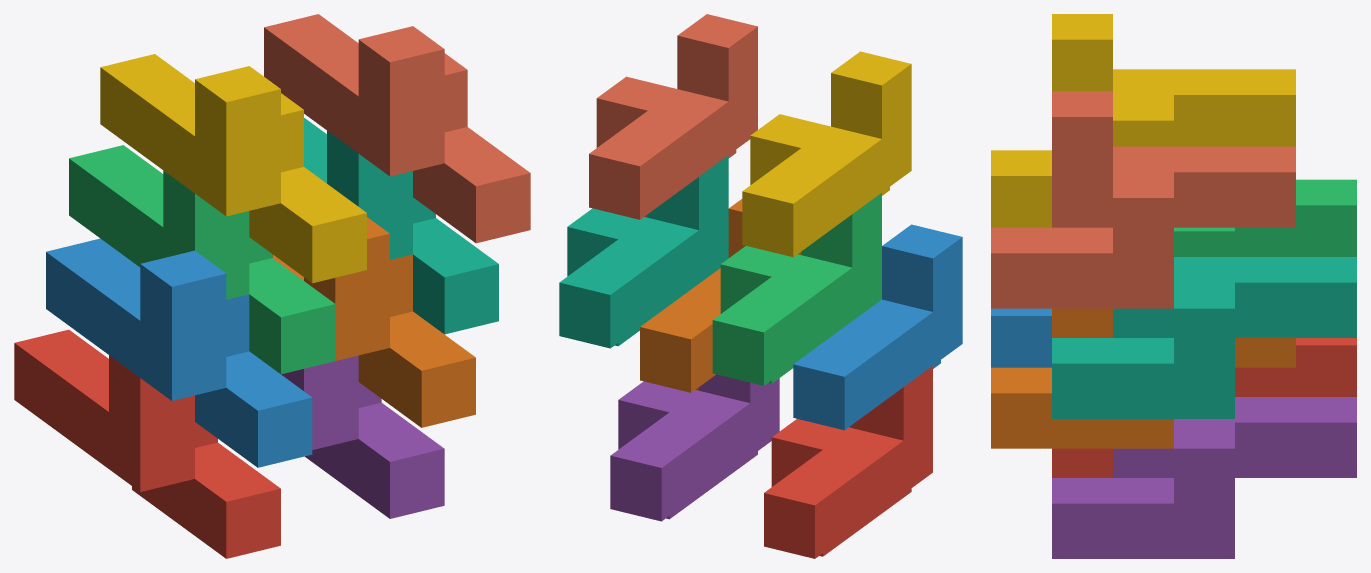
The model's file is tiling.obj.
3 views of the same model, side by side, from view 1: azimuth 30°, elevation 25°; view 2: azimuth 150°, elevation 25°; view 3: azimuth 270°, elevation 25° (orthographic). The views are drawn at different scales.
Visible parts, largest first — view 1: copy_1_domain_4, copy_1_domain_8, copy_1_domain_2, copy_1_domain_1, copy_1_domain_3, copy_1_domain_6, copy_1_domain_7, copy_1_domain_5; view 2: copy_1_domain_4, copy_1_domain_8, copy_1_domain_1, copy_1_domain_2, copy_1_domain_3, copy_1_domain_7, copy_1_domain_5, copy_1_domain_6; view 3: copy_1_domain_8, copy_1_domain_7, copy_1_domain_5, copy_1_domain_4, copy_1_domain_6, copy_1_domain_3, copy_1_domain_1, copy_1_domain_2.
Boxes of the visible parts, x1,y1,x2,y2 form: copy_1_domain_4: (100, 54, 366, 283); copy_1_domain_8: (264, 14, 530, 243); copy_1_domain_2: (46, 238, 312, 467); copy_1_domain_1: (14, 329, 280, 558); copy_1_domain_3: (69, 145, 335, 374); copy_1_domain_6: (272, 217, 475, 427); copy_1_domain_7: (304, 118, 498, 334); copy_1_domain_5: (281, 355, 444, 518); copy_1_domain_4: (742, 51, 911, 257); copy_1_domain_8: (589, 14, 757, 219); copy_1_domain_1: (764, 366, 932, 558); copy_1_domain_2: (793, 224, 962, 430); copy_1_domain_3: (712, 193, 881, 385); copy_1_domain_7: (559, 155, 728, 348); copy_1_domain_5: (610, 374, 779, 521); copy_1_domain_6: (640, 199, 745, 392); copy_1_domain_8: (991, 91, 1295, 308); copy_1_domain_7: (1052, 257, 1356, 418); copy_1_domain_5: (1052, 397, 1356, 558); copy_1_domain_4: (991, 14, 1295, 227); copy_1_domain_6: (991, 308, 1295, 448); copy_1_domain_3: (1174, 179, 1356, 256); copy_1_domain_1: (1052, 338, 1356, 477); copy_1_domain_2: (991, 308, 1051, 367).
Bounding box in the file's own units: 6 × 8 × 6.
